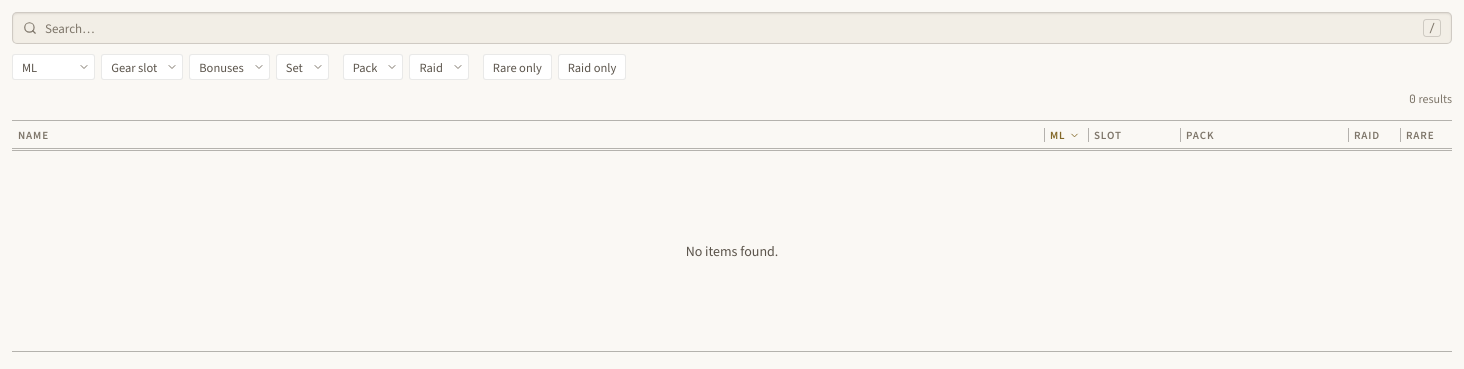
Scenario: ItemPicker page errors › names the failed Pack vocabulary in its open picker
Expected: the element with class "resources-result-count" reads "0 results", [1409,90,1452,110]
Click the button "Gear slot". click: (142,67)
box: [101,54,183,80]
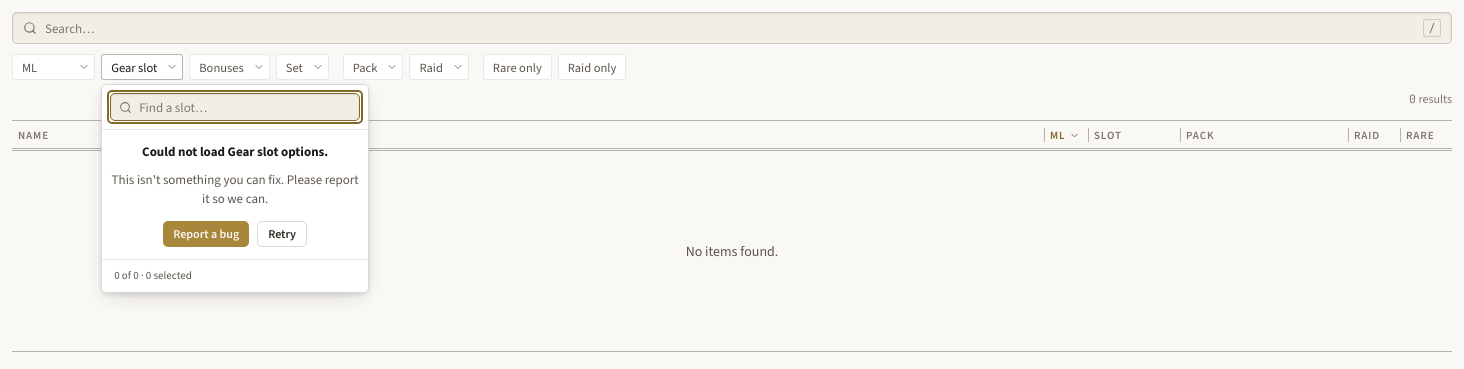
Expected: the text "Could not load Gear slot options." is shown, [142,142,328,162]
Click the button "Pack". click: (373,67)
box: [343,54,403,80]
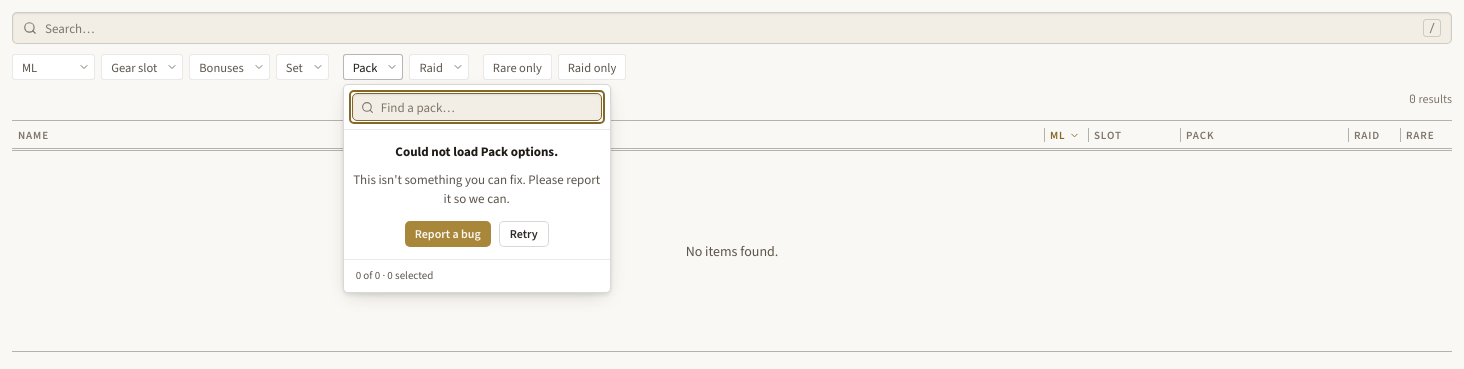
Expected: the number of messages with class "api-error-notice" is 1, [344,134,610,254]
Expected: the text "Could not load Pack options." is shown, [395,142,558,162]
Expected: the text "Could not load Gear slot options." is gone
